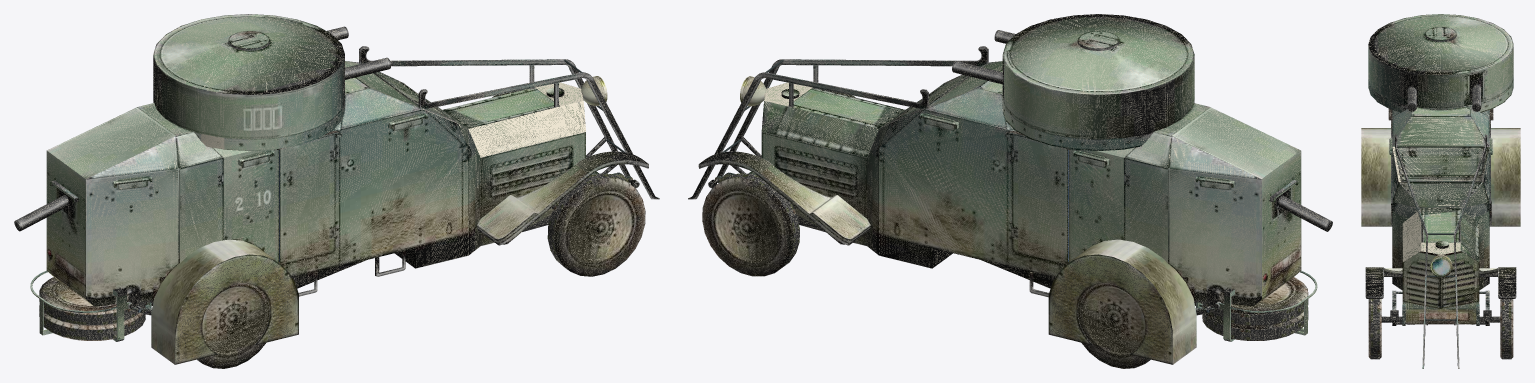
3 renders of one model, left to right at view 1: azimuth 30°, elevation 25°; view 2: azimuth 150°, elevation 25°; view 3: azimuth 270°, elevation 25°, orthographic. The views are drawn at different scales.
Parts seen in each view (by area): view 1: SketchUp (×22), Component_24 (×3), Component_3 (×3), Component_16, Component_20 (×2), Component_11; view 2: SketchUp (×25), Component_24 (×3), Component_3 (×3), Component_11, Component_20 (×2), Component_16; view 3: SketchUp (×30), Component_24 (×6), Component_16 (×2), Component_11 (×2), Component_25.
Part boxes in pixels (x1,y1,x2,y2): SketchUp (×22): (15,14,648,364); Component_24 (×3): (547,173,645,276); Component_3 (×3): (39,283,269,368); Component_16: (420,73,659,199); Component_20 (×2): (39,277,145,325); Component_11: (359,47,630,176); SketchUp (×25): (698,14,1331,364); Component_24 (×3): (702,173,799,276); Component_3 (×3): (1078,283,1308,368); Component_11: (688,73,927,199); Component_20 (×2): (1202,277,1308,325); Component_16: (717,47,987,176); SketchUp (×30): (1361,14,1520,324); Component_24 (×6): (1368,299,1513,359); Component_16 (×2): (1394,134,1428,368); Component_11 (×2): (1453,134,1487,368); Component_25: (1430,257,1452,277).
Bounding box in the file's own units: 290 × 83.58 × 121.
Materials: 54 (47 with a texture image).
